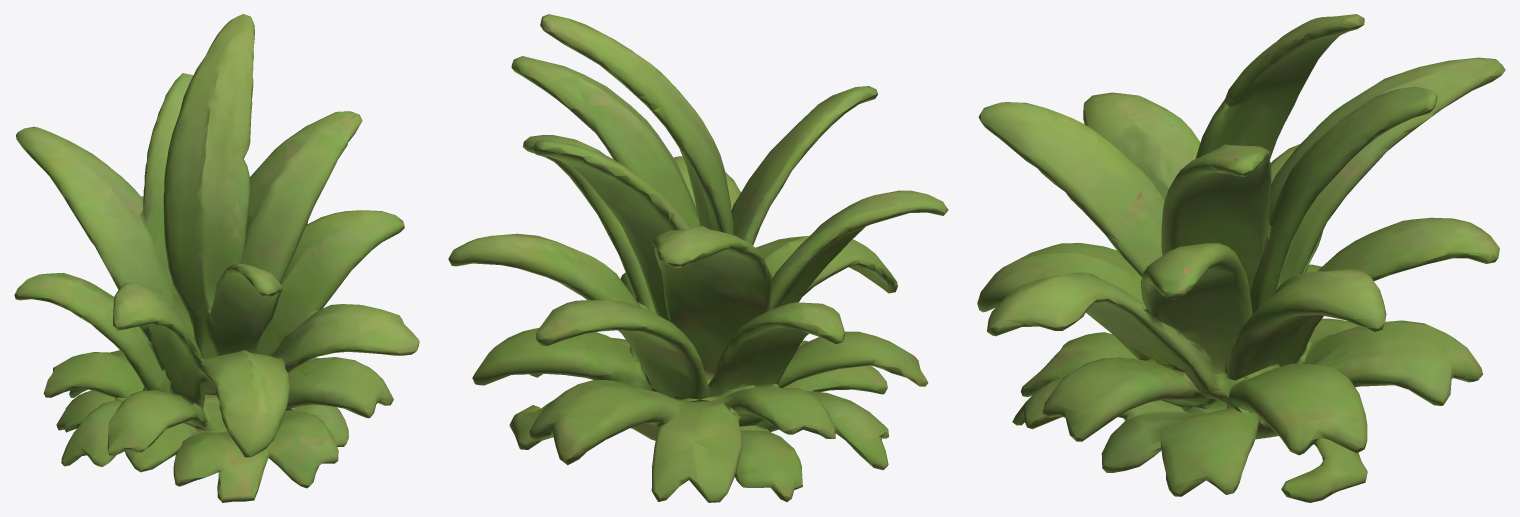
Rendered from planta_hojas.glb.
The picture shows the model from 3 angles, left to right: view 1: azimuth 30°, elevation 25°; view 2: azimuth 150°, elevation 25°; view 3: azimuth 270°, elevation 25°; orthographic projection. The views are drawn at different scales.
Parts seen in each view (by area): view 1: planta_hojas_malla; view 2: planta_hojas_malla; view 3: planta_hojas_malla.
Part boxes in pixels (x1,y1,x2,y2): planta_hojas_malla: (14,14,419,502); planta_hojas_malla: (448,14,948,502); planta_hojas_malla: (977,14,1505,502).
Bounding box in the file's own units: 0.1189 × 0.1271 × 0.132.
1 material, 1 textured.
